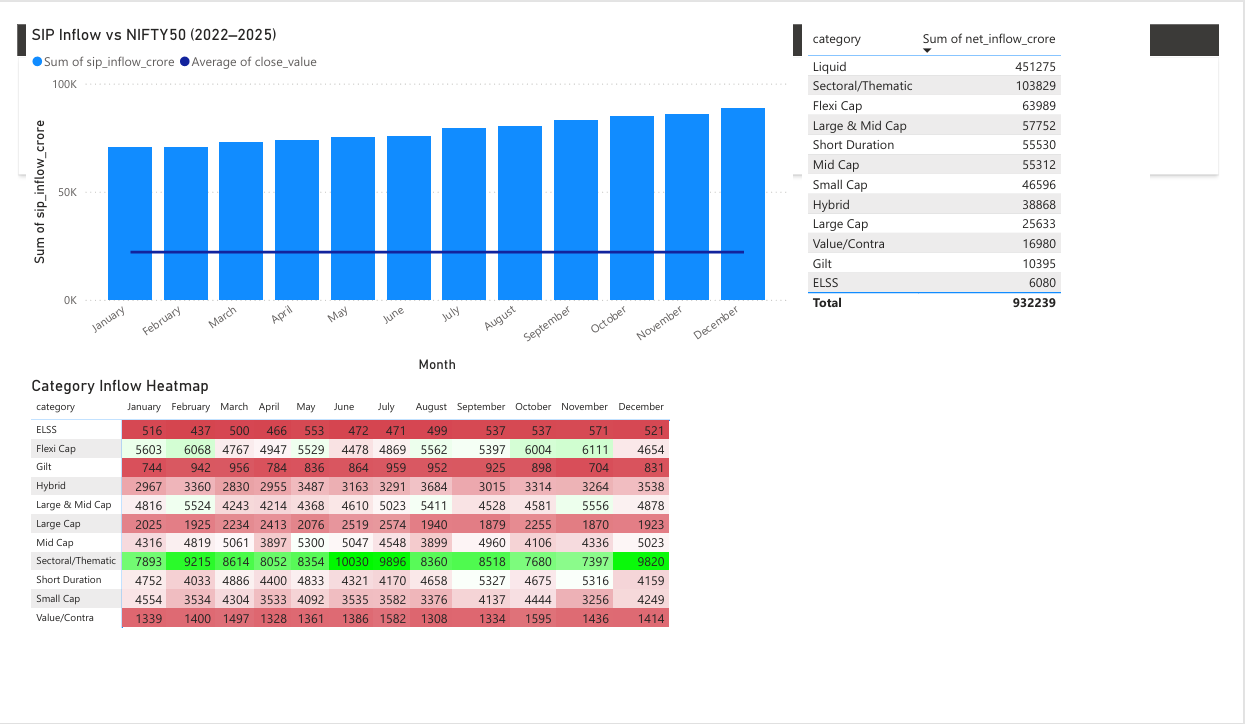

This screenshot's page, from the dashboard's own definition file:
{"tool":"powerbi","page":{"name":"SIP & Market Trends","canvas":[1280,720],"ordinal":4},"visuals":[{"type":"lineStackedColumnComboChart","title":"SIP Inflow vs NIFTY50 (2022–2025)","fields":{"Y":["Sum(04_monthly_sip_inflows.sip_inflow_crore)"],"Category":["04_monthly_sip_inflows.month.Variation.Date Hierarchy.Month"],"Y2":["Avg(10_benchmark_indices.close_value)"]},"box":[10,0,816,374],"z":0},{"type":"pivotTable","title":"Category Inflow Heatmap","fields":{"Rows":["05_category_inflows.category"],"Values":["Sum(05_category_inflows.net_inflow_crore)"],"Columns":["05_category_inflows.month.Variation.Date Hierarchy.Month"]},"box":[10,374,816,298],"z":1000},{"type":"tableEx","fields":{"Values":["05_category_inflows.category","Sum(05_category_inflows.net_inflow_crore)"]},"box":[836,0,370,326],"z":2000}]}

Visuals, with their boxes on the page's 1280x720 design canvas (x1, y1, x2, y2). These are canvas units, not pixel positions in the 1245x724 screenshot, which may show the page scaled, cropped or inside an application window:
"SIP Inflow vs NIFTY50 (2022–2025)" lineStackedColumnComboChart: 10/0/826/374
"Category Inflow Heatmap" pivotTable: 10/374/826/672
tableEx - 05_category_inflows.category x Sum(05_category_inflows.net_inflow_crore): 836/0/1206/326
